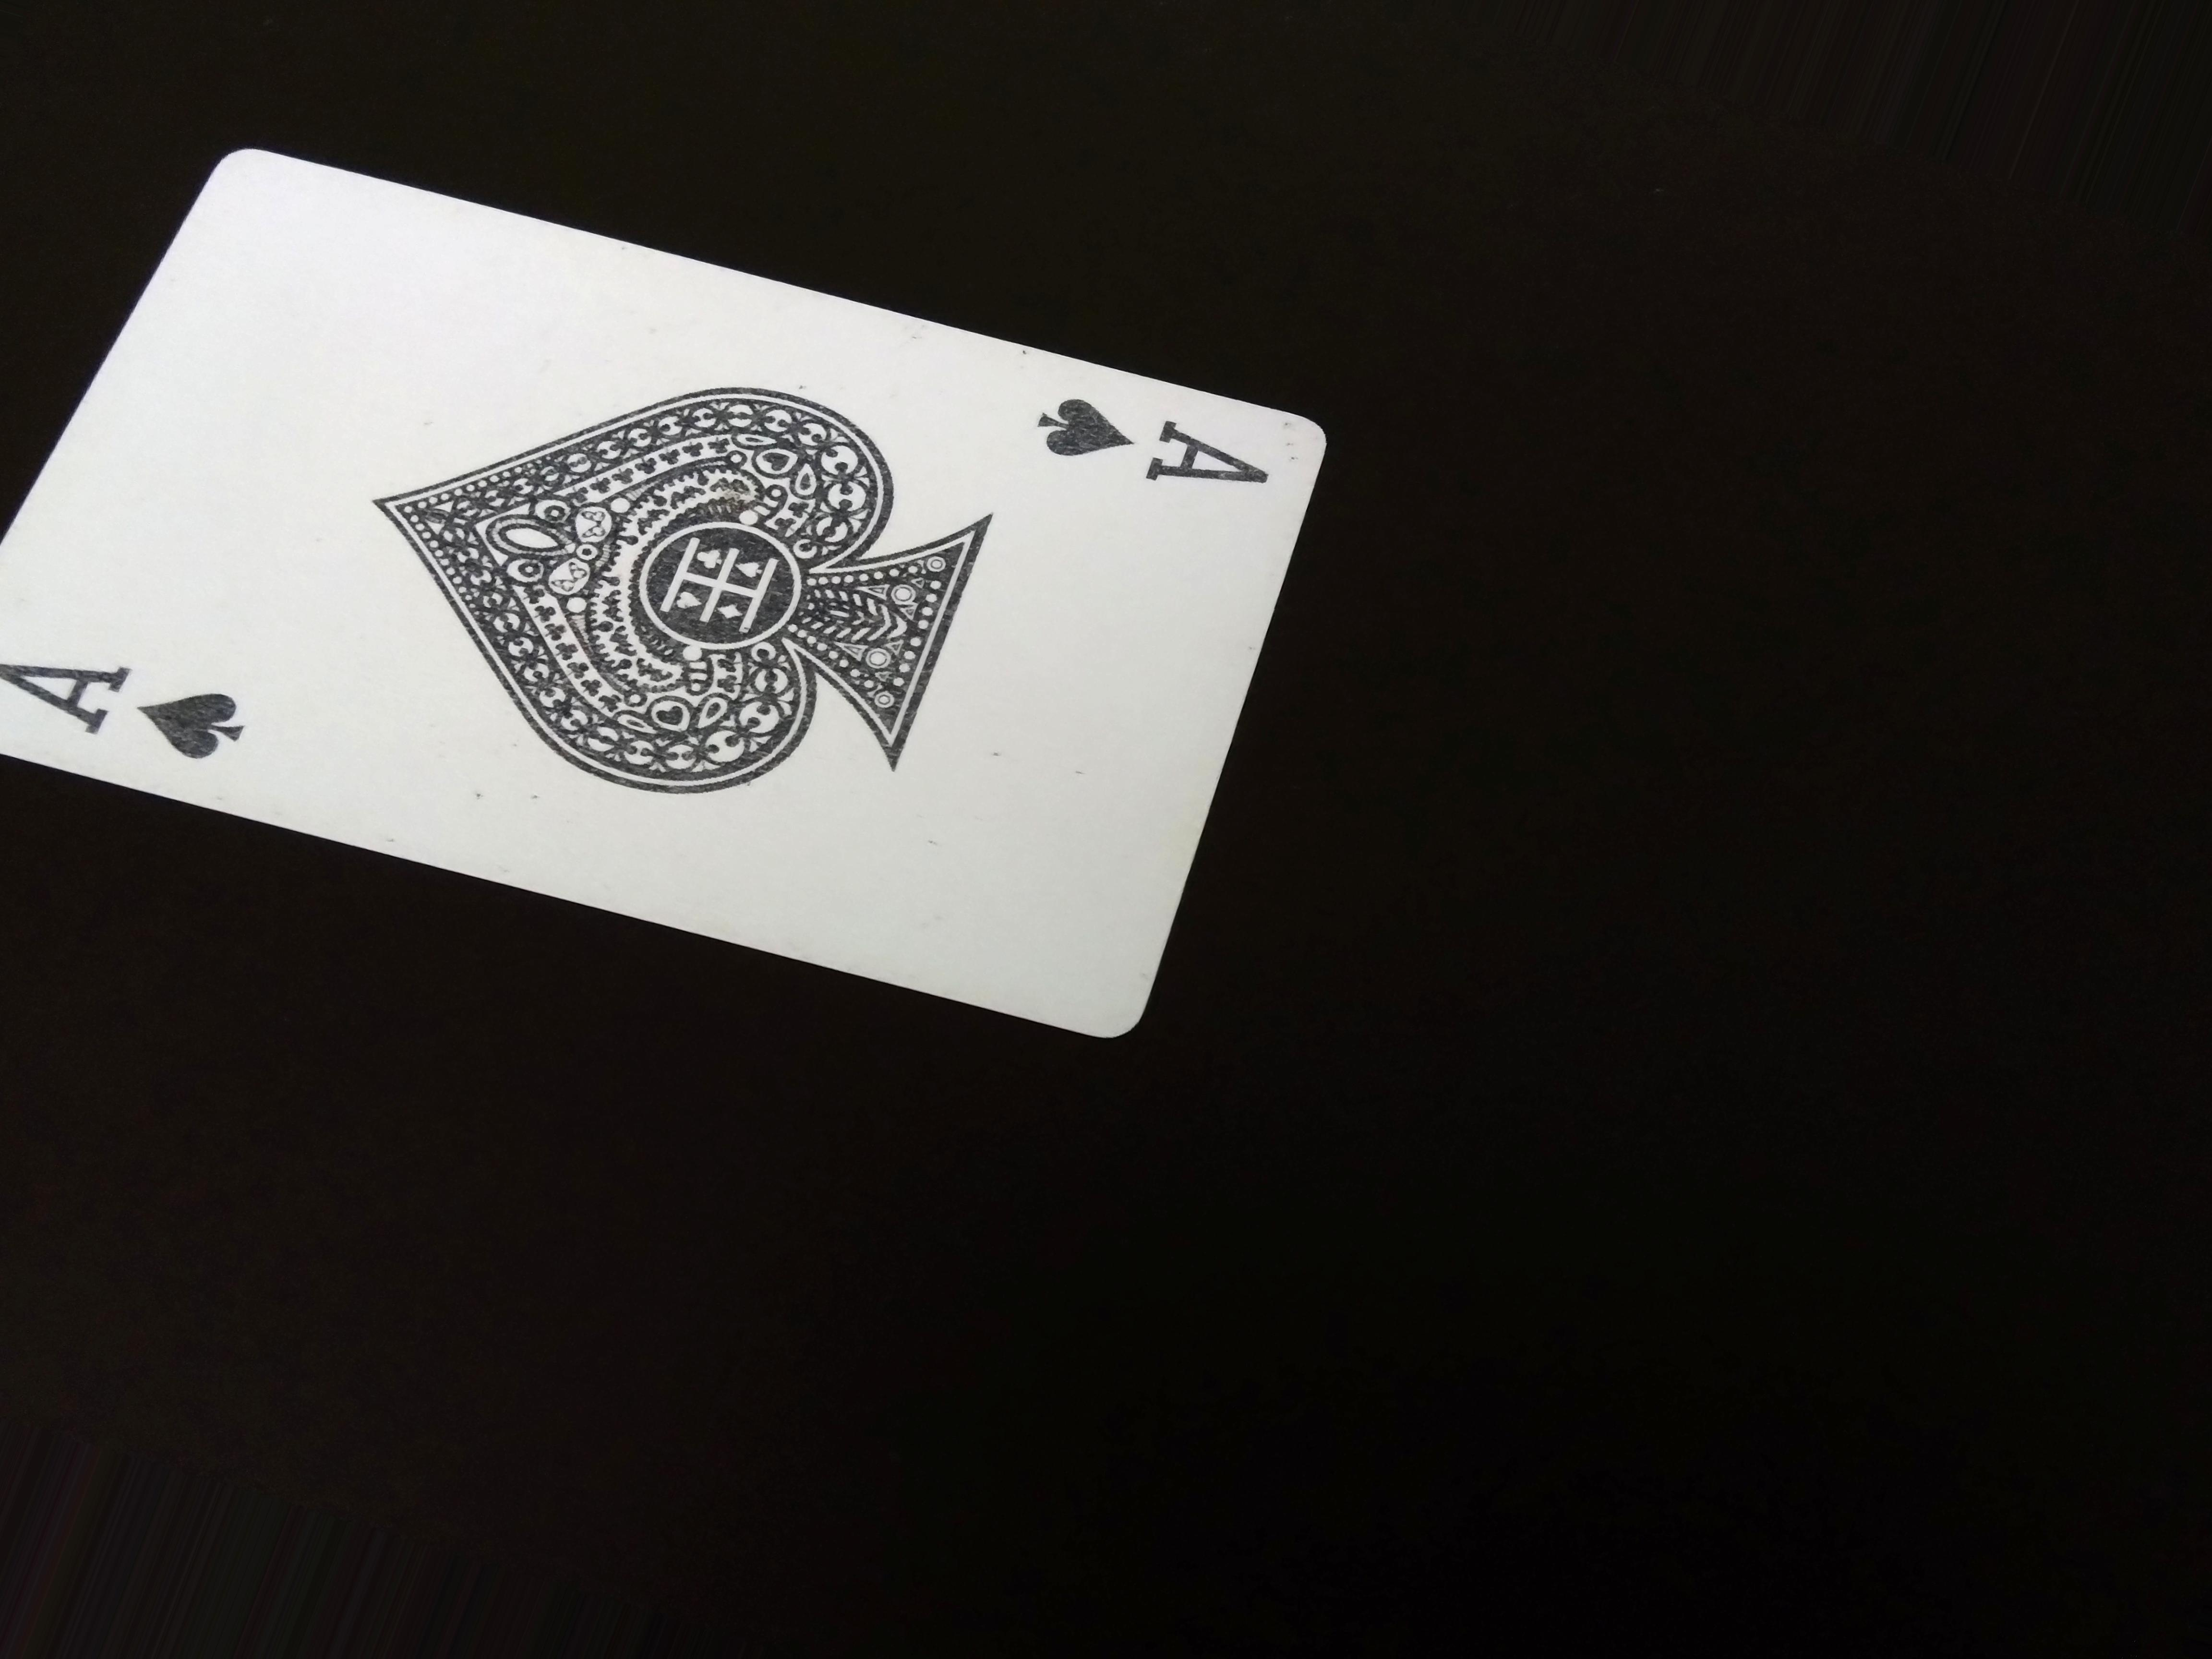AS: (1010, 383, 1296, 530)
